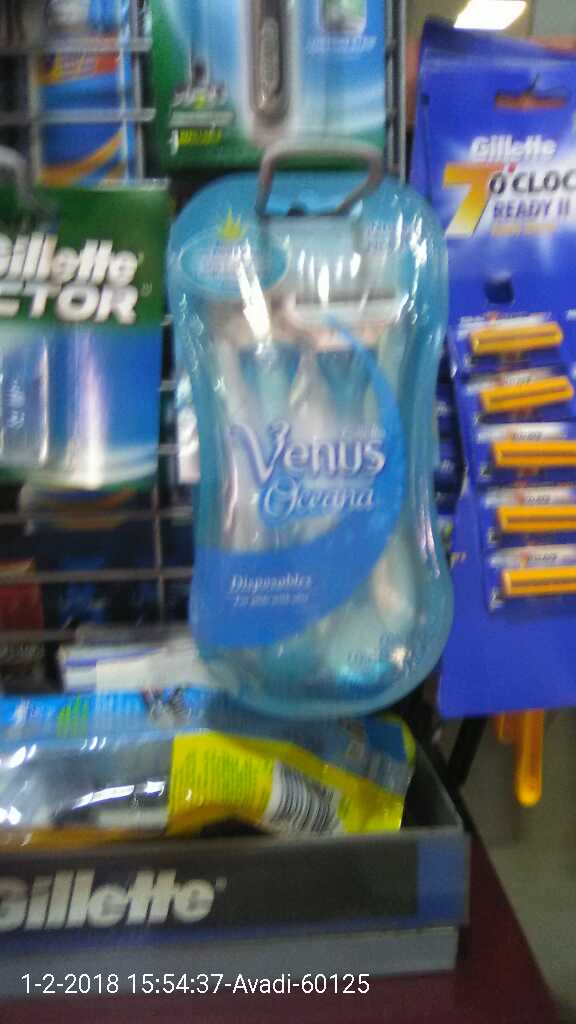venus: (181, 180, 439, 713)
